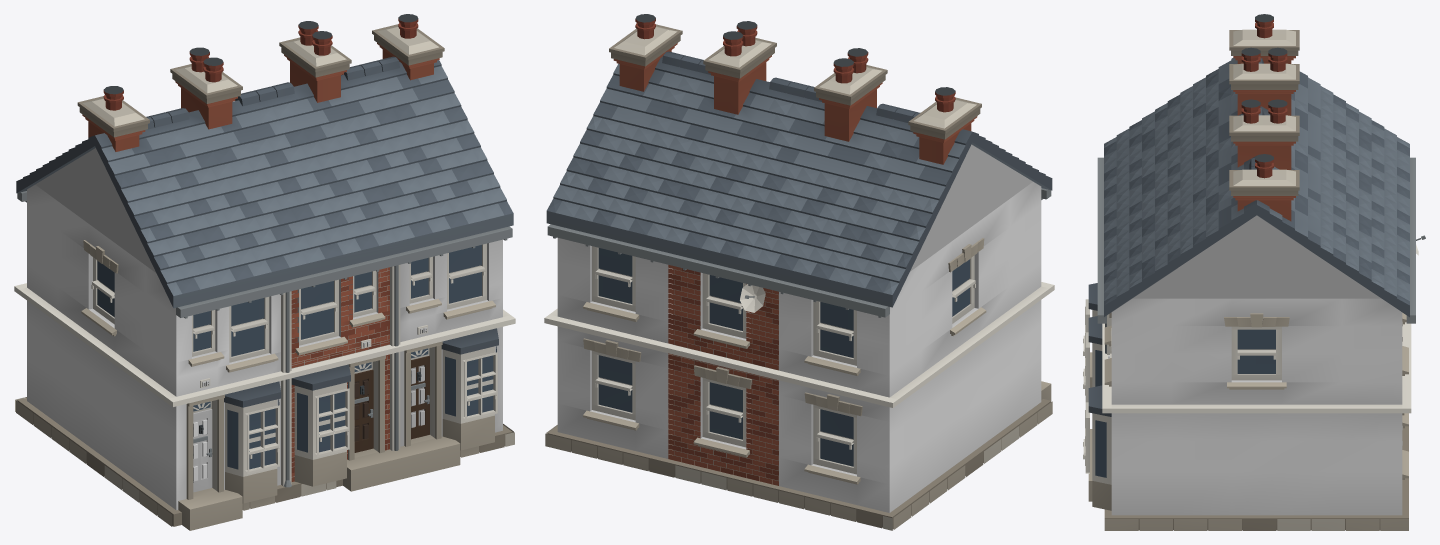
File: terrace-near.glb
The picture shows the model from 3 angles, left to right: view 1: azimuth 30°, elevation 25°; view 2: azimuth 150°, elevation 25°; view 3: azimuth 270°, elevation 25°; orthographic projection. The views are drawn at different scales.
Parts seen in each view (by area): view 1: TerraceNear; view 2: TerraceNear; view 3: TerraceNear.
Boxes of the visible parts, x1,y1,x2,y2 form: TerraceNear: (14,14,515,530); TerraceNear: (544,14,1054,530); TerraceNear: (1083,14,1425,530).
Size of the model in its own units: 1.01 by 1.07 by 0.8961.
